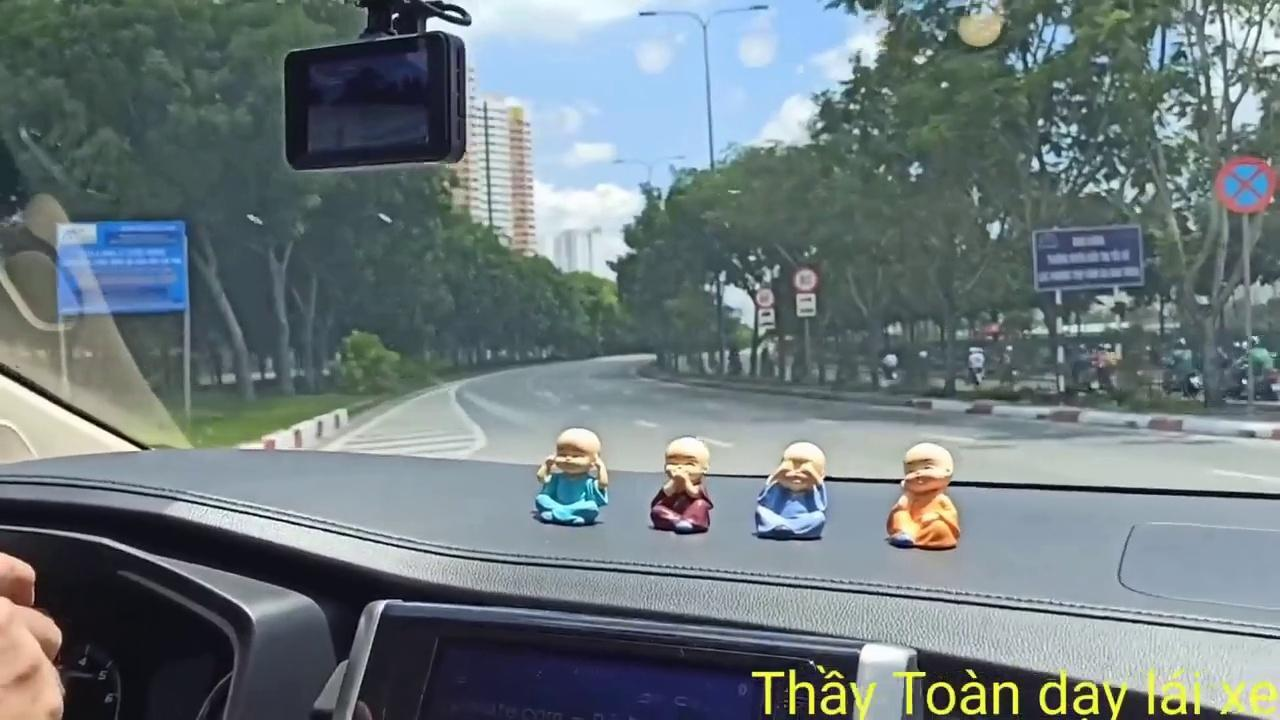Biển phụ: (795, 291, 818, 318), (757, 307, 776, 330)
Cấm dừng - Cấm đỗ: (1212, 152, 1272, 216)
Khác: (50, 215, 193, 317)
